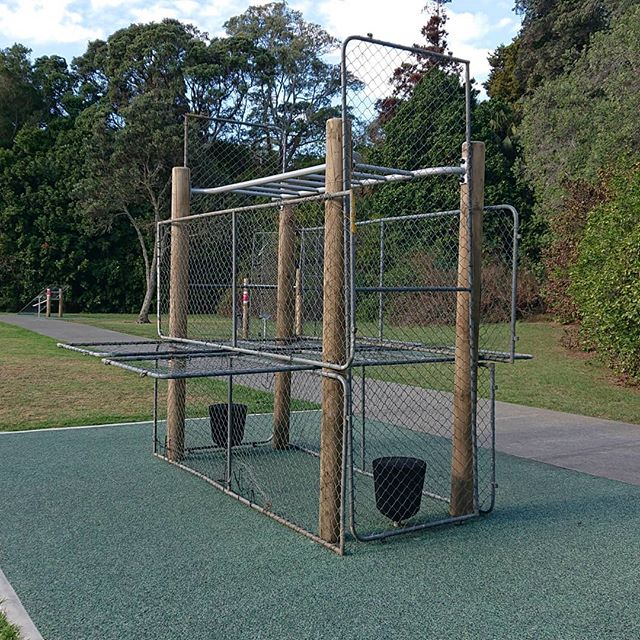vegetation: (18, 1, 640, 305)
